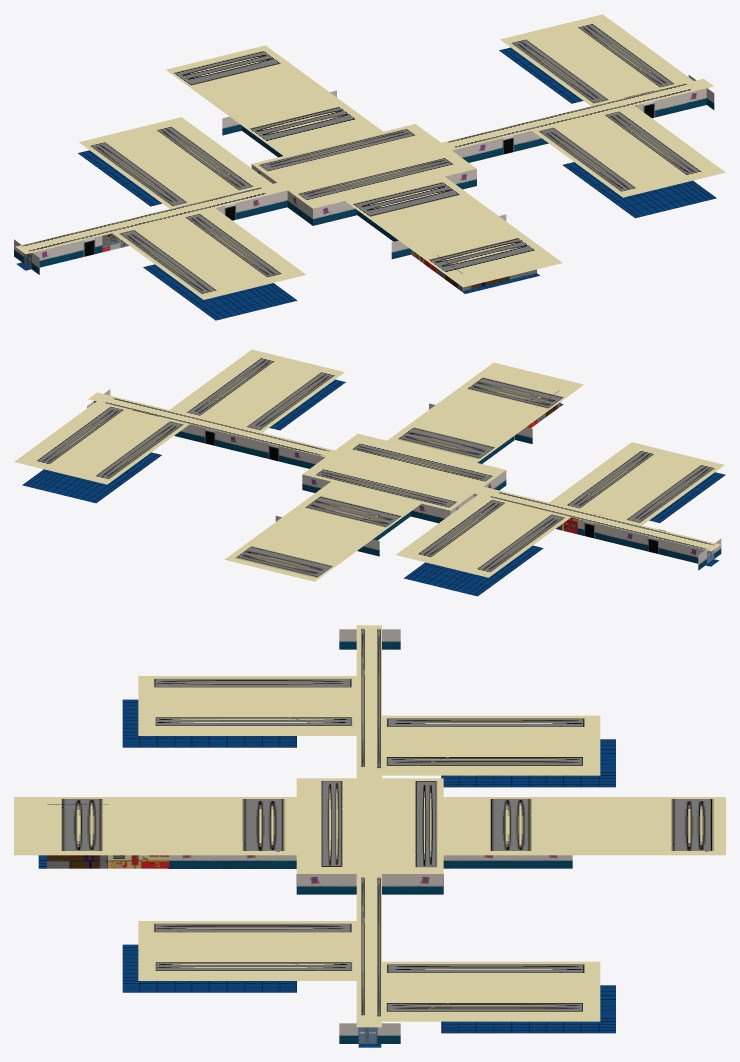
Rendered from MallMap.fbx.
3 views of the same model, one above another, from view 1: azimuth 30°, elevation 25°; view 2: azimuth 150°, elevation 25°; view 3: azimuth 270°, elevation 25° (orthographic). The views are drawn at different scales.
Visible parts, largest first — view 1: ceiling.002, ceiling.001, ceiling, ceiling.008, ceiling.005, ceiling.007, ceiling.006, ceiling.003, ceiling.004, floor.012, floor.013, floor.001 (+6 smaller); view 2: ceiling.002, ceiling.001, ceiling, ceiling.008, ceiling.005, ceiling.006, ceiling.007, ceiling.004, ceiling.003, floor.001, floor, floor.013 (+6 smaller); view 3: ceiling.002, ceiling.001, ceiling, ceiling.008, ceiling.005, ceiling.007, ceiling.006, ceiling.003, ceiling.004, floor.001, floor, floor.012 (+11 smaller).
Part boxes in pixels (x1=…): ceiling.002: x1=166, y1=45, x2=383, y2=156; ceiling.001: x1=345, y1=176, x2=562, y2=287; ceiling: x1=252, y1=124, x2=476, y2=208; ceiling.008: x1=79, y1=117, x2=272, y2=209; ceiling.005: x1=500, y1=14, x2=693, y2=105; ceiling.007: x1=112, y1=208, x2=305, y2=299; ceiling.006: x1=532, y1=106, x2=725, y2=197; ceiling.003: x1=441, y1=79, x2=713, y2=150; ceiling.004: x1=15, y1=183, x2=288, y2=254; floor.012: x1=143, y1=264, x2=297, y2=320; floor.013: x1=563, y1=162, x2=716, y2=218; floor.001: x1=499, y1=47, x2=583, y2=103; ceiling.002: x1=224, y1=481, x2=421, y2=581; ceiling.001: x1=387, y1=362, x2=583, y2=462; ceiling: x1=302, y1=434, x2=505, y2=510; ceiling.008: x1=396, y1=494, x2=571, y2=577; ceiling.005: x1=14, y1=401, x2=189, y2=484; ceiling.006: x1=169, y1=349, x2=344, y2=432; ceiling.007: x1=549, y1=442, x2=724, y2=525; ceiling.004: x1=473, y1=486, x2=720, y2=551; ceiling.003: x1=88, y1=392, x2=335, y2=457; floor.001: x1=22, y1=452, x2=161, y2=503; floor: x1=404, y1=545, x2=543, y2=596; floor.013: x1=269, y1=379, x2=345, y2=430; ceiling.002: x1=442, y1=797, x2=725, y2=855; ceiling.001: x1=14, y1=797, x2=296, y2=855; ceiling: x1=296, y1=778, x2=443, y2=873; ceiling.008: x1=381, y1=715, x2=600, y2=775; ceiling.005: x1=381, y1=961, x2=600, y2=1021; ceiling.007: x1=138, y1=676, x2=357, y2=735; ceiling.006: x1=138, y1=921, x2=357, y2=980; ceiling.003: x1=356, y1=873, x2=381, y2=1027; ceiling.004: x1=356, y1=625, x2=381, y2=778; floor.001: x1=441, y1=985, x2=615, y2=1033; floor: x1=441, y1=739, x2=615, y2=787; floor.012: x1=122, y1=699, x2=296, y2=747.
Bounding box in the file's own units: 4204 × 107 × 3146.
Materials: 101 (101 with a texture image).
